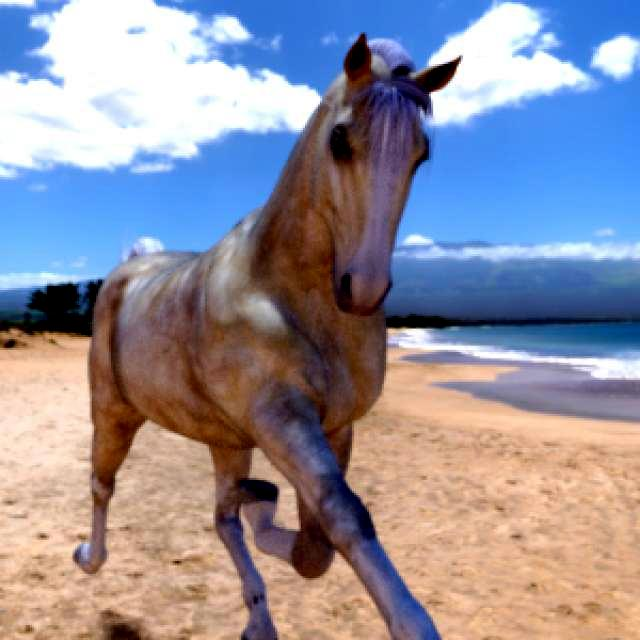horse: (74, 35, 460, 640)
